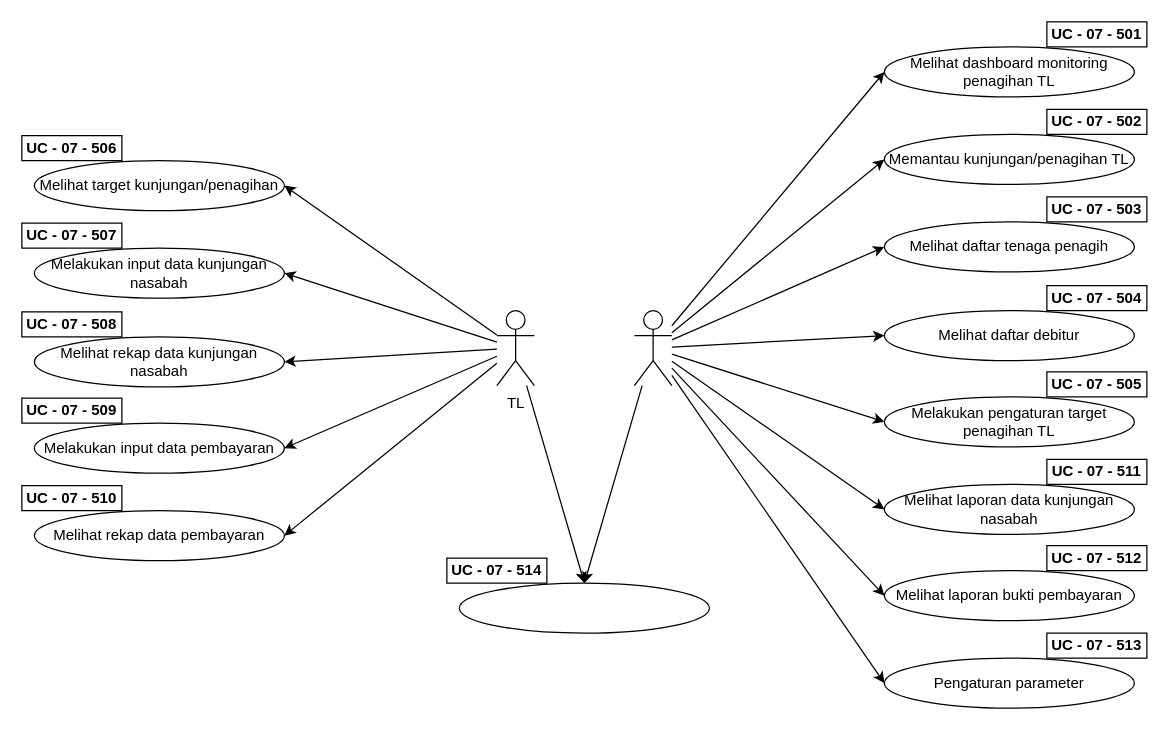
Image size: 1169x730. Some labels were removed from this diagram. Each missing label, with the centre of its shape:
Melakukan chat antar TL/ Pelaksana Likuidasi: (x=583, y=607)
Pelaksana Likuidasi: (x=652, y=347)
